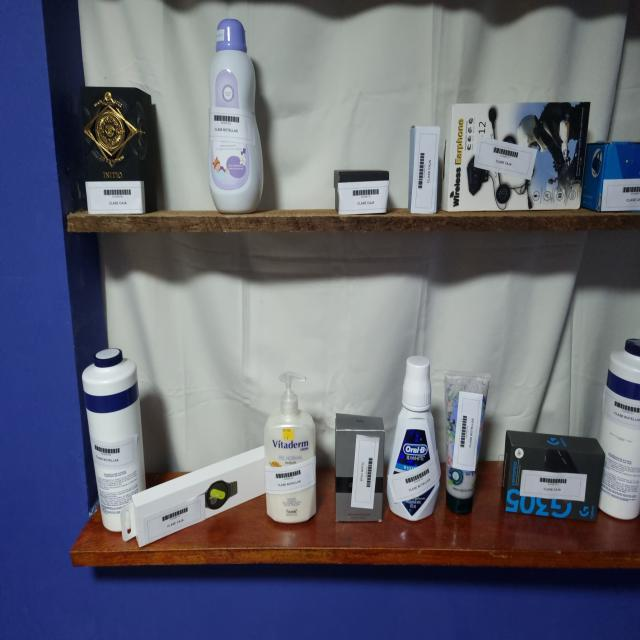botella: (82, 348, 145, 531), (208, 19, 263, 214), (387, 355, 441, 521), (264, 372, 316, 524), (599, 339, 640, 521), (444, 371, 490, 514)
caja: (443, 102, 590, 211), (121, 445, 266, 547), (79, 87, 156, 214), (502, 431, 605, 521), (335, 413, 385, 522), (581, 142, 640, 214), (408, 126, 440, 214), (334, 170, 389, 215)
